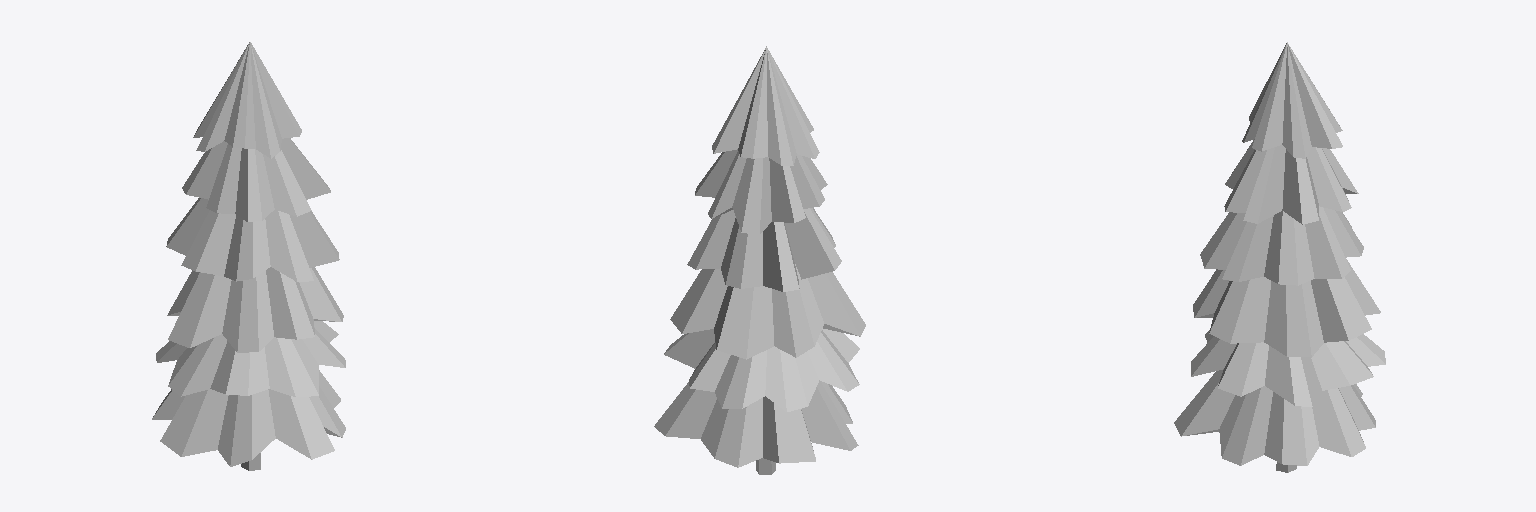
File: Forest_A_FirTree_03.obj
3 renders of one model, left to right at view 1: azimuth 30°, elevation 25°; view 2: azimuth 150°, elevation 25°; view 3: azimuth 270°, elevation 25°, orthographic.
Visible parts, largest first — view 1: Forest_A_FirTree_03; view 2: Forest_A_FirTree_03; view 3: Forest_A_FirTree_03.
Boxes of the visible parts, box(x1,y1,x2,y2) form: Forest_A_FirTree_03: box(152, 42, 345, 470); Forest_A_FirTree_03: box(654, 46, 865, 474); Forest_A_FirTree_03: box(1174, 42, 1385, 472).
Size of the model in its own units: 262 by 588 by 266.